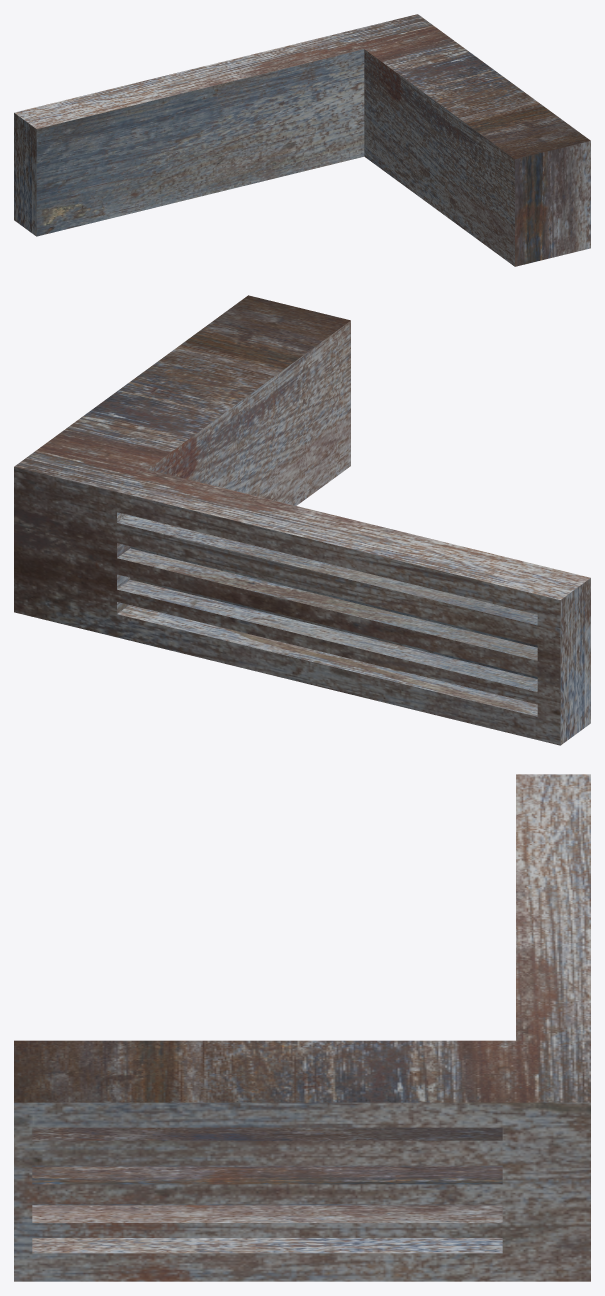
File: BalcaoAdmRE1.fbx
The picture shows the model from 3 angles, top to bottom: view 1: azimuth 30°, elevation 25°; view 2: azimuth 150°, elevation 25°; view 3: azimuth 270°, elevation 25°; orthographic projection. The views are drawn at different scales.
Parts seen in each view (by area): view 1: BalcaoAdm; view 2: BalcaoAdm; view 3: BalcaoAdm.
Part boxes in pixels (x1=…): BalcaoAdm: x1=14, y1=14, x2=590, y2=266; BalcaoAdm: x1=14, y1=295, x2=590, y2=745; BalcaoAdm: x1=14, y1=774, x2=590, y2=1281.
Size of the model in its own units: 3.17 by 0.8065 by 2.35.
Materials: 1 (1 with a texture image).
